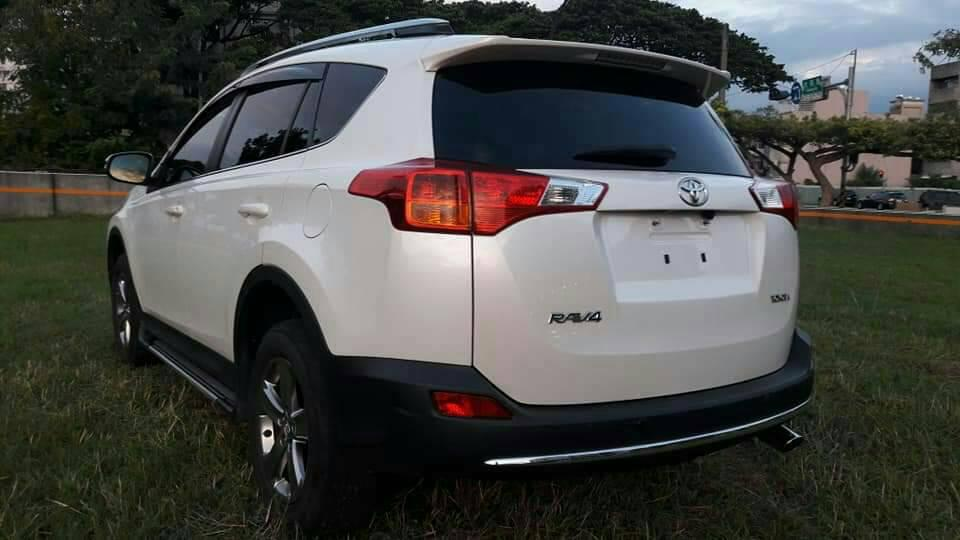toyota_rav4: (361, 39, 808, 463)
